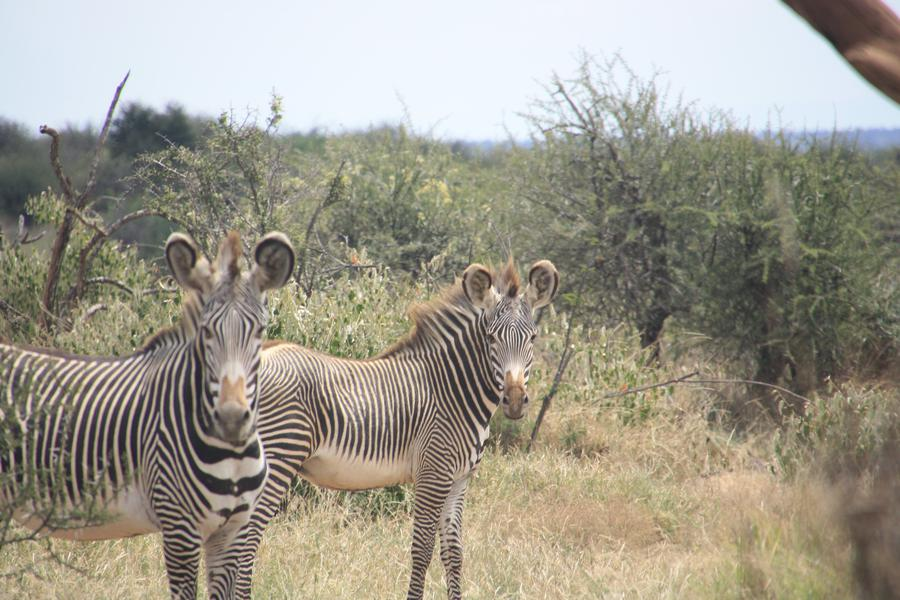zebra_grevys: (268, 321, 459, 481)
